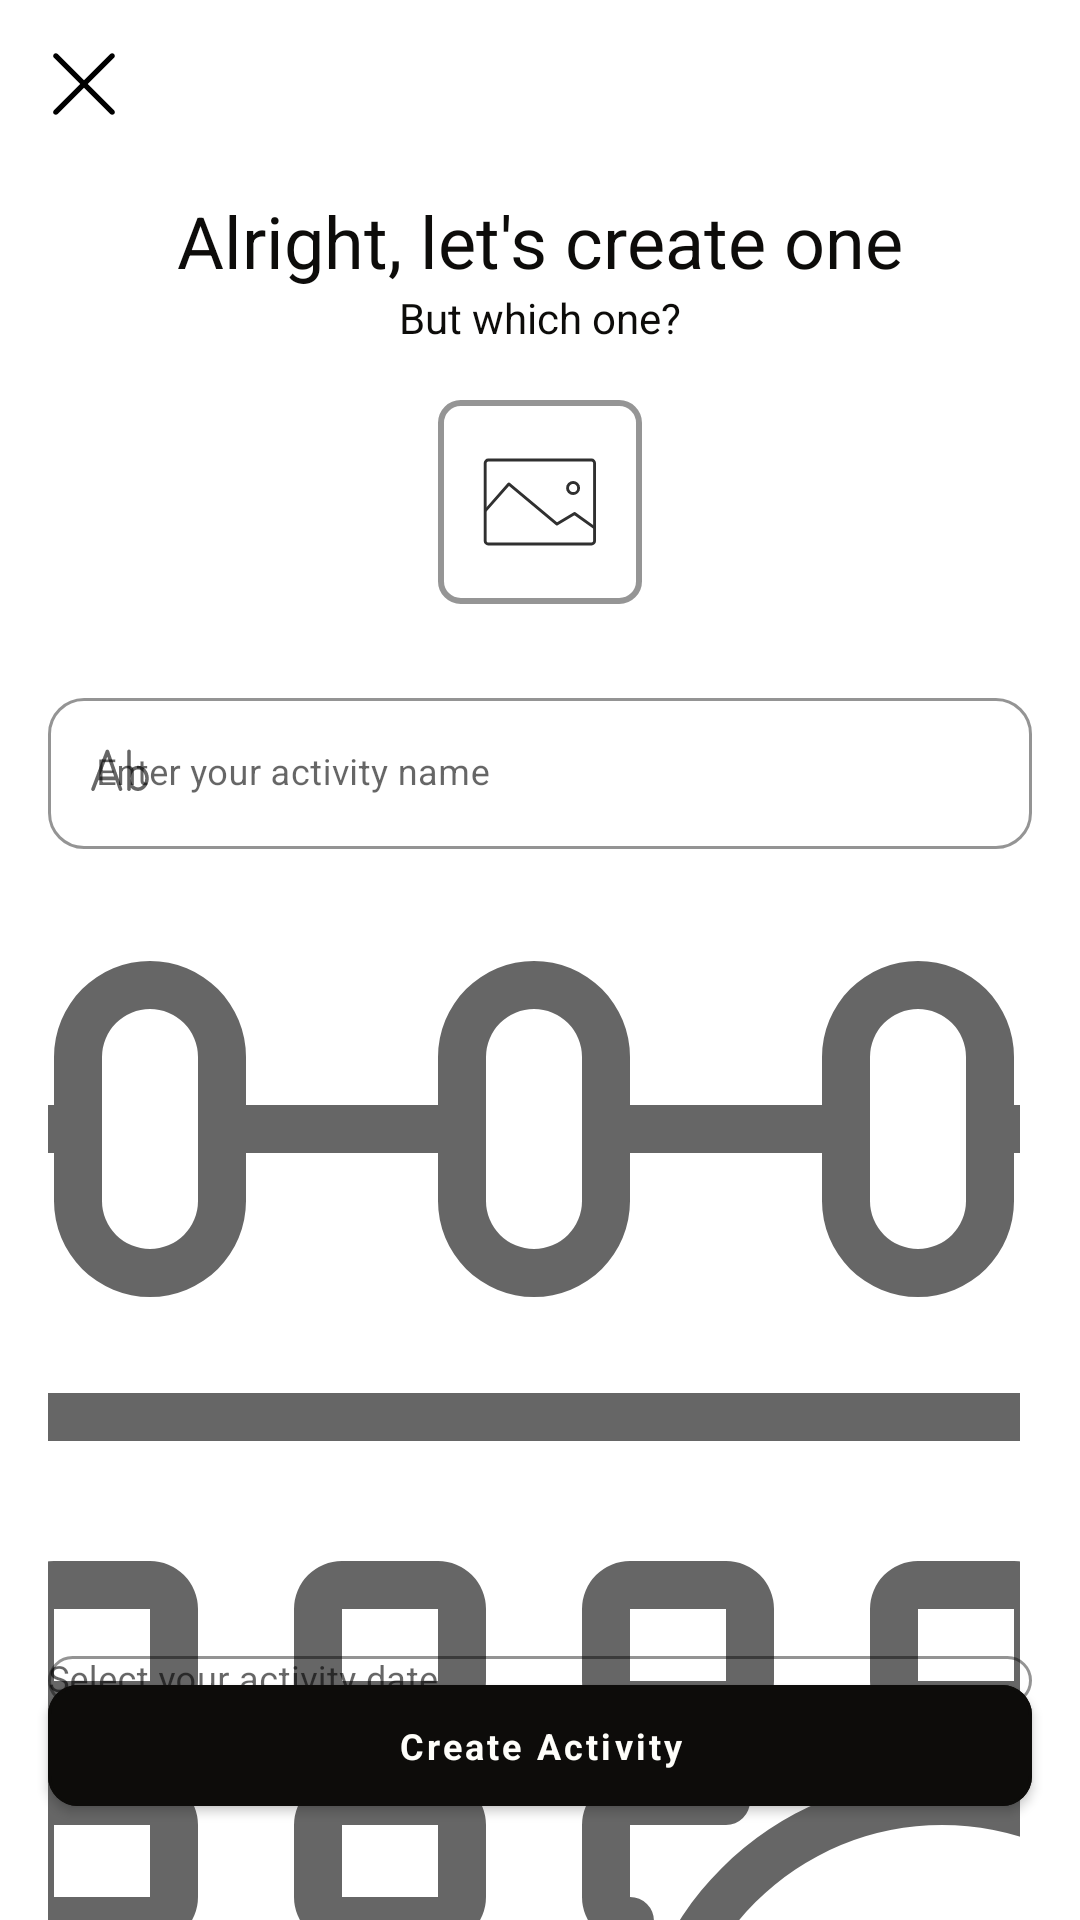

Icon click points for this 1080 × 1920 phone screenshot, format point (x, y):
exit: point (84, 84)
upload: point (540, 502)
